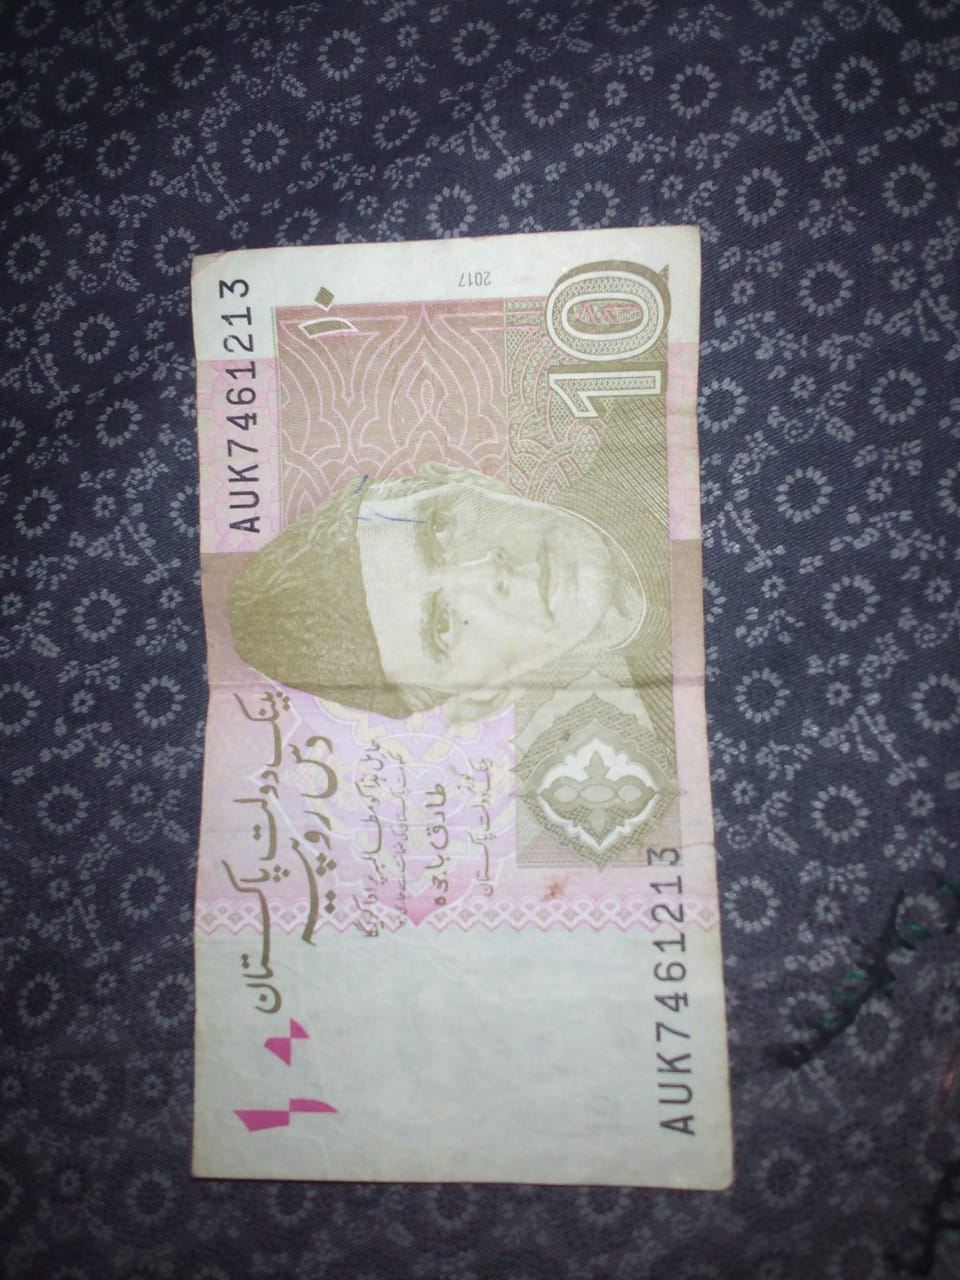10 rupee: (183, 229, 736, 1190)
